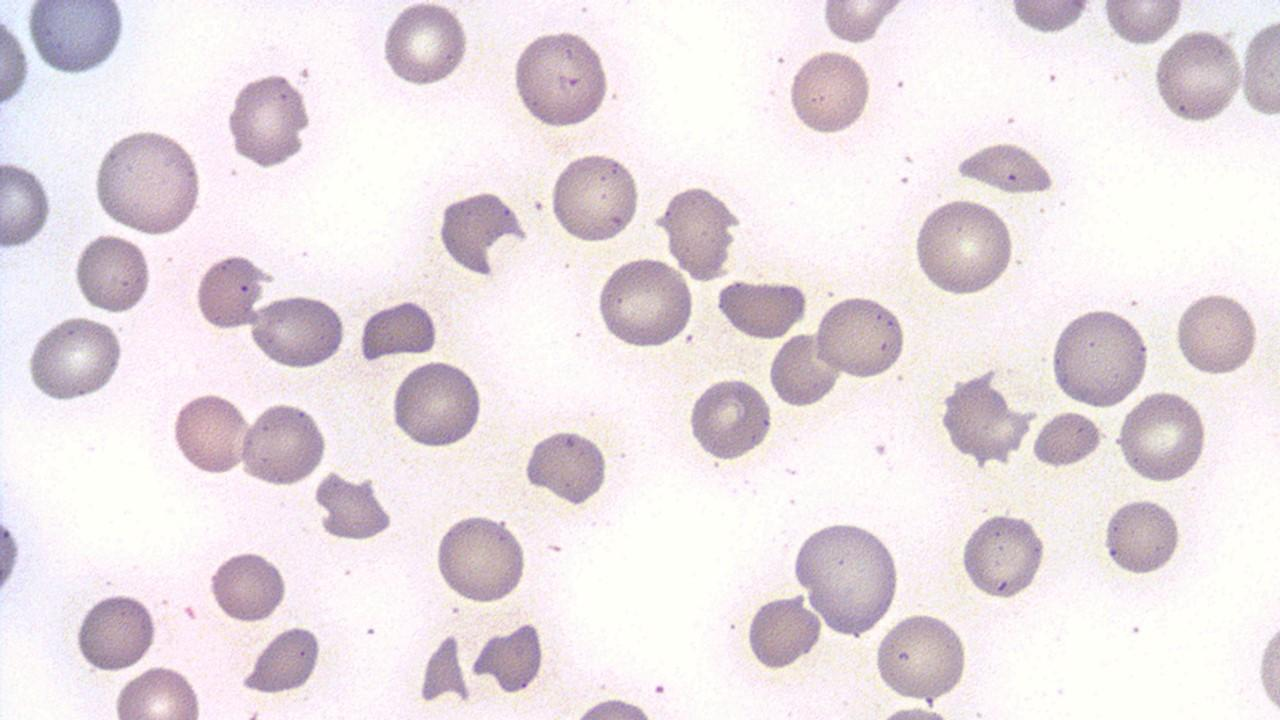RBC: (396, 138, 766, 560), (792, 518, 900, 639), (91, 126, 206, 236), (910, 195, 1018, 300), (1047, 303, 1151, 410), (508, 28, 612, 132), (593, 255, 695, 350), (872, 609, 972, 704), (23, 312, 126, 403), (432, 510, 528, 607), (546, 149, 640, 247), (388, 358, 486, 451), (1150, 28, 1242, 126), (1116, 388, 1208, 486), (225, 69, 312, 171), (655, 182, 742, 282), (813, 292, 909, 380), (380, 0, 472, 91), (239, 398, 329, 490), (247, 291, 349, 372), (786, 46, 874, 139), (959, 510, 1047, 602), (1173, 288, 1261, 379), (25, 1, 126, 79), (687, 374, 773, 463), (170, 389, 253, 479), (71, 590, 159, 674), (521, 426, 609, 508), (1102, 493, 1182, 579), (72, 230, 152, 316), (950, 138, 1058, 198), (207, 546, 288, 625), (744, 590, 822, 672), (192, 252, 268, 332), (768, 328, 842, 410), (240, 622, 322, 696), (713, 276, 806, 340), (355, 297, 440, 361), (111, 662, 204, 718), (0, 156, 54, 250), (1237, 9, 1279, 126), (1029, 408, 1103, 470), (416, 630, 473, 708), (1100, 1, 1186, 47), (818, 2, 904, 45), (0, 5, 31, 122), (1250, 596, 1280, 716), (0, 494, 24, 622), (1006, 1, 1094, 35), (571, 693, 657, 719)
WBC: (714, 0, 1258, 450), (0, 0, 282, 450), (433, 186, 532, 280), (23, 2, 130, 78), (1003, 1, 1093, 33)
